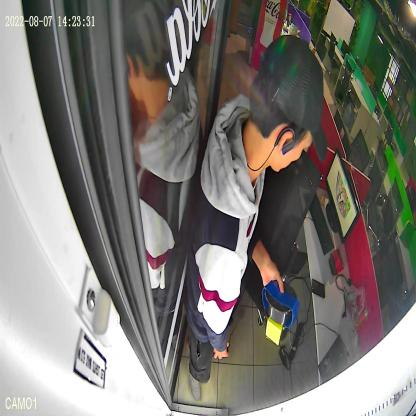blue: (262, 280, 298, 328)
yellow: (264, 309, 290, 346)
